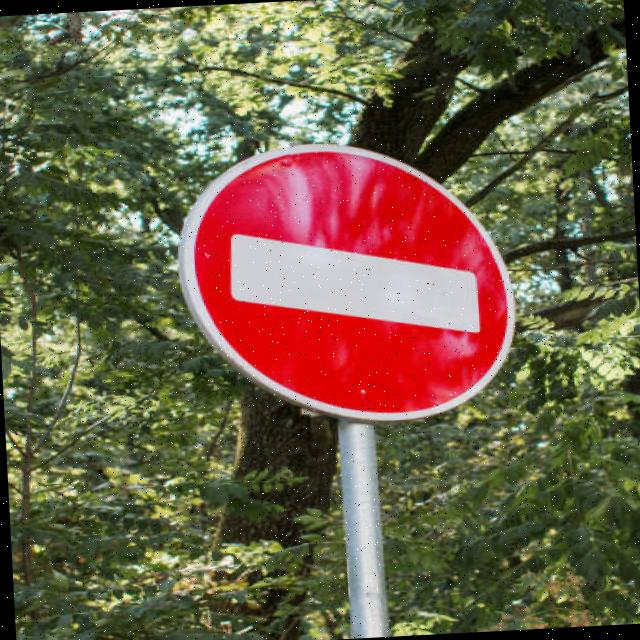do_not_enter: (152, 118, 548, 444)
